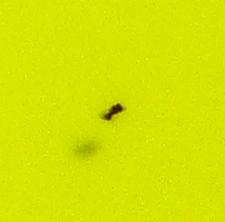Hymenoptera: (100, 100, 125, 122)
